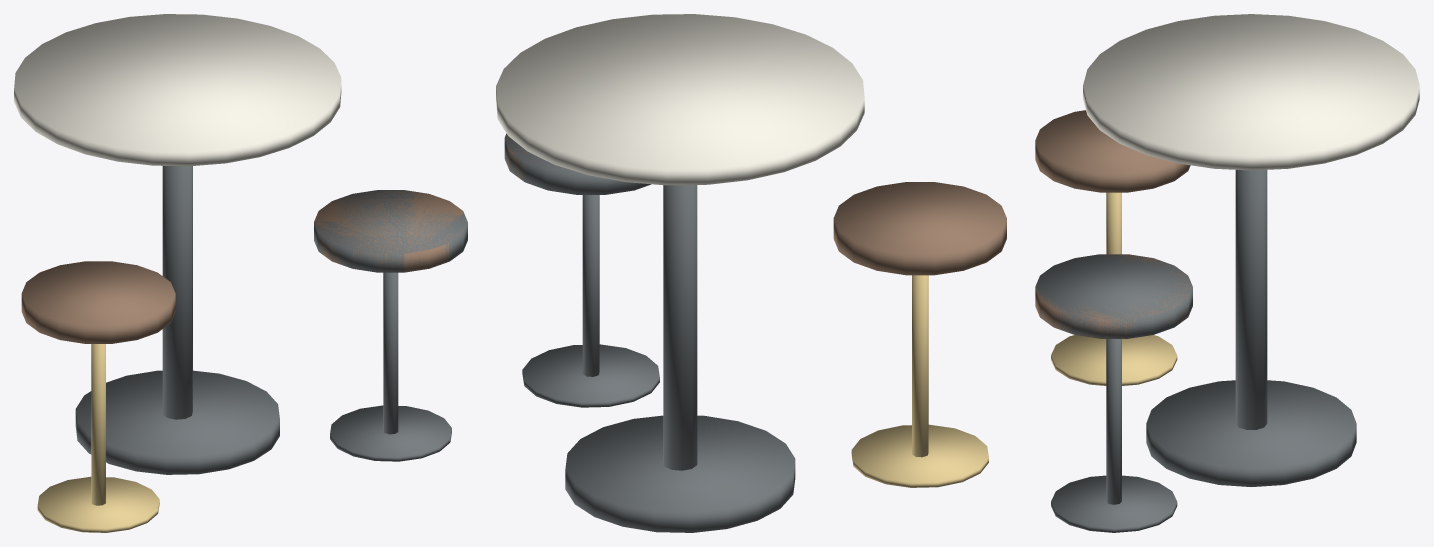
Rendered from Gear06.fbx.
3 views of the same model, side by side, from view 1: azimuth 30°, elevation 25°; view 2: azimuth 150°, elevation 25°; view 3: azimuth 270°, elevation 25° (orthographic). The views are drawn at different scales.
Visible parts, largest first — view 1: Gear06_V1_Ivory, Gear06_V1_Charcoal, Gear06_V10_Leather, Gear06_V10_Brass; view 2: Gear06_V1_Ivory, Gear06_V1_Charcoal, Gear06_V10_Leather, Gear06_V10_Brass; view 3: Gear06_V1_Charcoal, Gear06_V1_Ivory, Gear06_V10_Leather, Gear06_V10_Brass.
Part boxes in pixels (box(x1,y1,x2,y2)): Gear06_V1_Ivory: box(14, 14, 341, 166); Gear06_V1_Charcoal: box(75, 166, 467, 474); Gear06_V10_Leather: box(21, 190, 464, 343); Gear06_V10_Brass: box(37, 344, 159, 532); Gear06_V1_Ivory: box(496, 14, 864, 185); Gear06_V1_Charcoal: box(504, 133, 795, 532); Gear06_V10_Leather: box(505, 135, 1006, 275); Gear06_V10_Brass: box(851, 275, 988, 487); Gear06_V1_Charcoal: box(1035, 170, 1356, 532); Gear06_V1_Ivory: box(1083, 14, 1419, 170); Gear06_V10_Leather: box(1035, 110, 1192, 338); Gear06_V10_Brass: box(1051, 192, 1177, 385).
Bounding box in the file's own units: 95.34 × 75 × 73.11.
